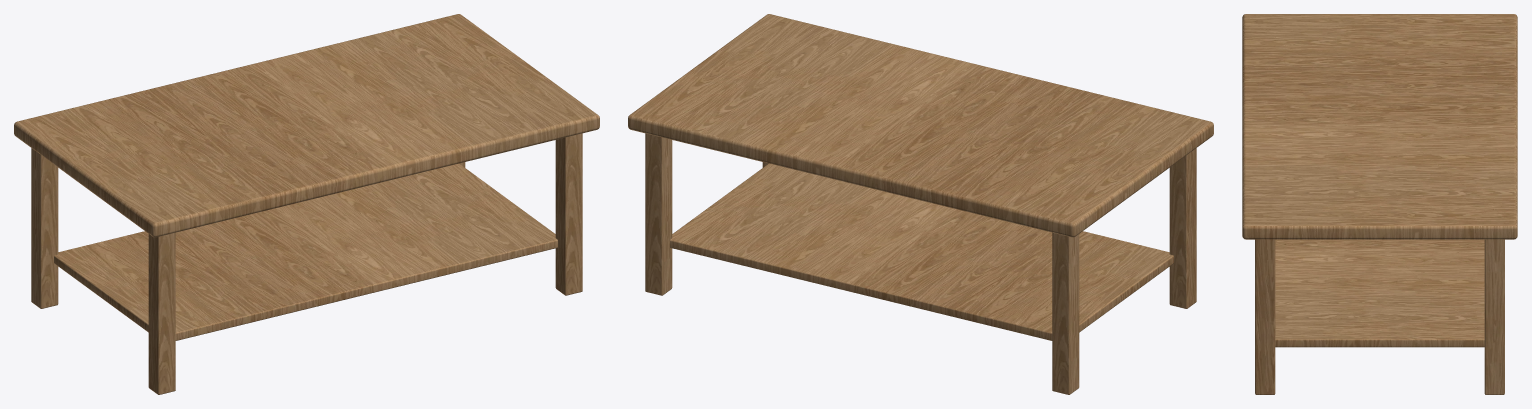
The model's file is vuena-ap-coffee-table.glb.
3 views of the same model, side by side, from view 1: azimuth 30°, elevation 25°; view 2: azimuth 150°, elevation 25°; view 3: azimuth 270°, elevation 25° (orthographic). The views are drawn at different scales.
Parts seen in each view (by area): view 1: ap_coffee_table; view 2: ap_coffee_table; view 3: ap_coffee_table.
Part boxes in pixels (left/top/right/bottom): ap_coffee_table: left=14, top=14, right=599, bottom=394; ap_coffee_table: left=628, top=14, right=1213, bottom=394; ap_coffee_table: left=1242, top=14, right=1517, bottom=394.
Bounding box in the file's own units: 1.1 × 0.4199 × 0.6.
1 material, 1 textured.
